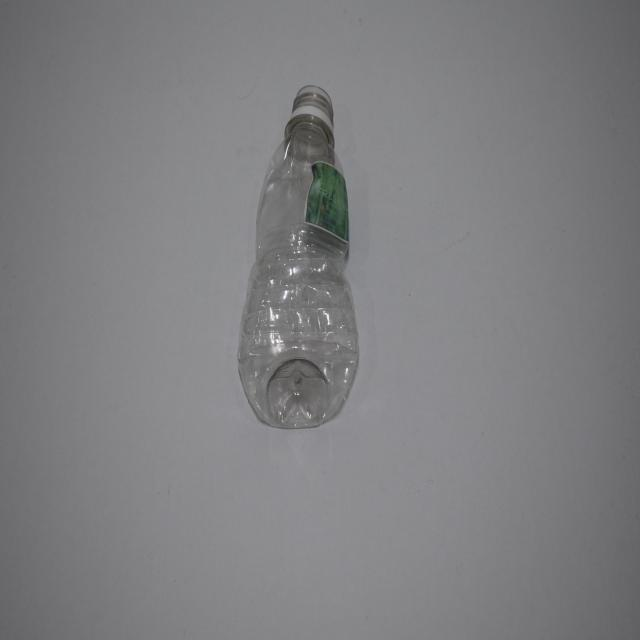plastic: (237, 80, 362, 430)
